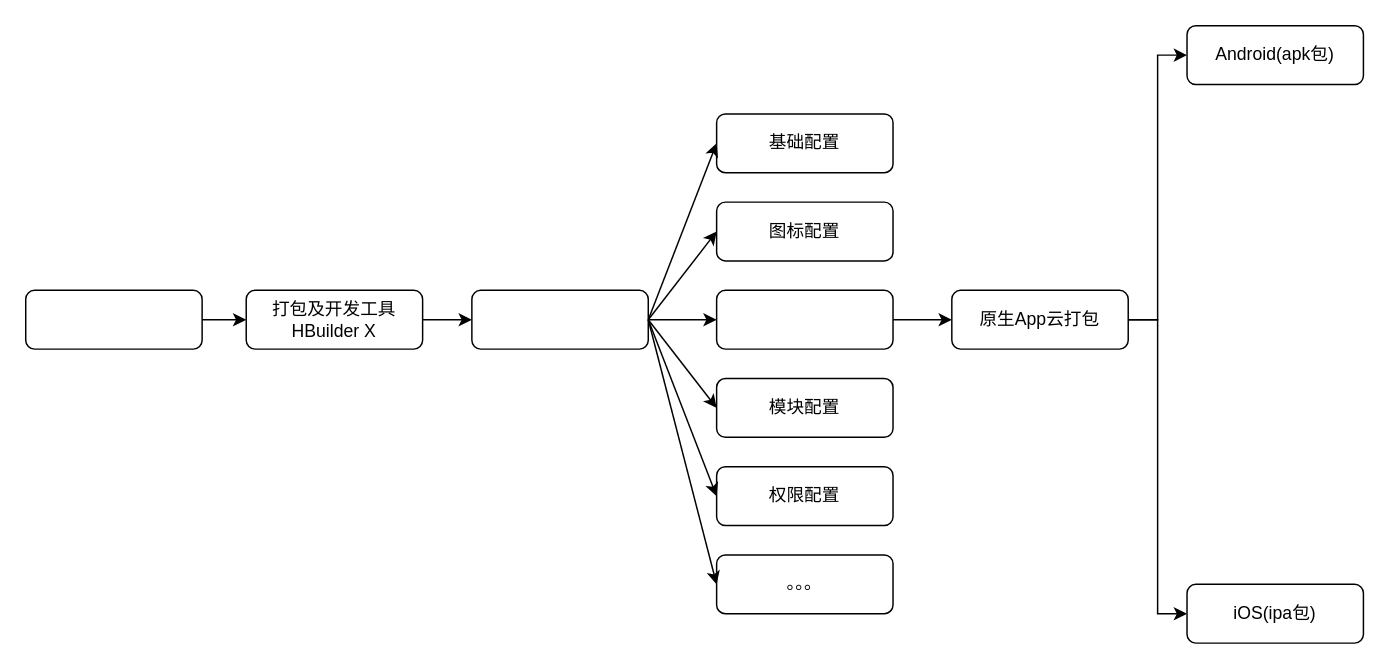
This 1389x669 diagram has some shape labels left out. Each missing label, with the centre of its shape:
"启动界面" belongs at [804,319].
"基于uni-app开发" belongs at [113,319].
"打包参数配置" belongs at [559,319].
